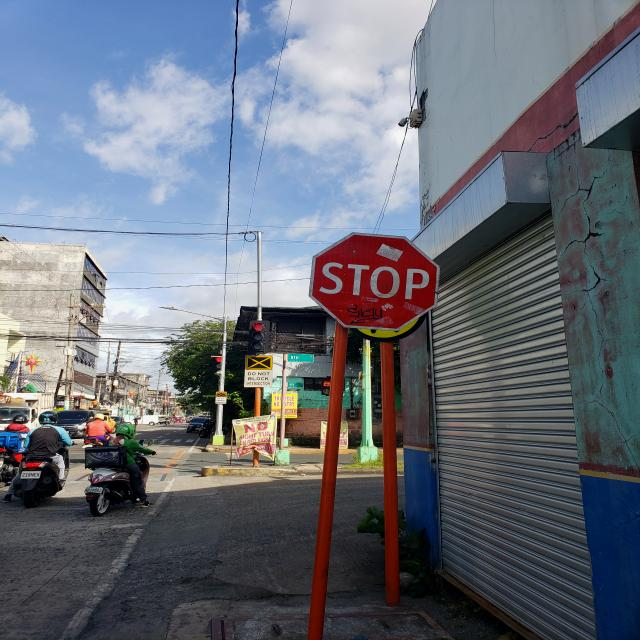stop-sign: (308, 232, 441, 332)
